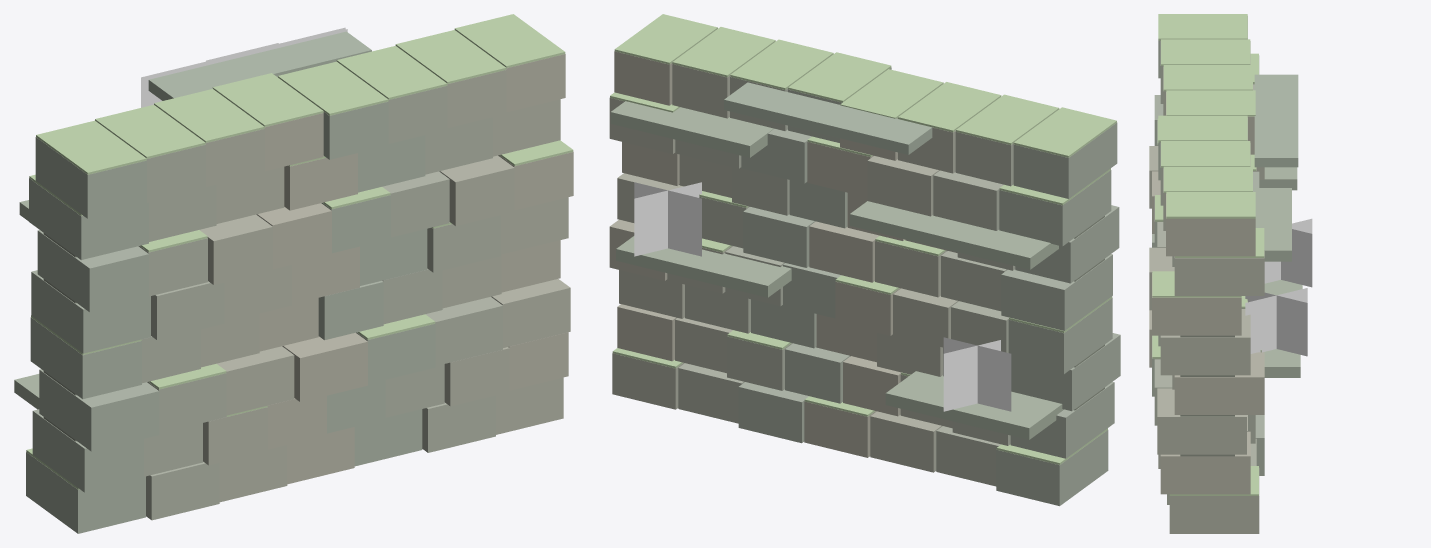
Rendered from waterfall-cliff.glb.
3 renders of one model, left to right at view 1: azimuth 30°, elevation 25°; view 2: azimuth 150°, elevation 25°; view 3: azimuth 270°, elevation 25°, orthographic. The views are drawn at different scales.
Parts seen in each view (by area): view 1: waterfall_stacked_block_cliff, waterfall_mossy_ledge_caps, waterfall_projecting_shadow_ledges, waterfall_scrolling_sheet_cards; view 2: waterfall_stacked_block_cliff, waterfall_mossy_ledge_caps, waterfall_projecting_shadow_ledges, waterfall_blossom_clump_right, waterfall_blossom_clump_left; view 3: waterfall_stacked_block_cliff, waterfall_mossy_ledge_caps, waterfall_projecting_shadow_ledges, waterfall_blossom_clump_right, waterfall_blossom_clump_left.
Boxes of the visible parts, left/top/right/bottom form: waterfall_stacked_block_cliff: left=26, top=54, right=573, bottom=533; waterfall_mossy_ledge_caps: left=26, top=14, right=573, bottom=489; waterfall_projecting_shadow_ledges: left=14, top=31, right=371, bottom=409; waterfall_scrolling_sheet_cards: left=143, top=29, right=347, bottom=107; waterfall_stacked_block_cliff: left=609, top=51, right=1120, bottom=506; waterfall_mossy_ledge_caps: left=610, top=14, right=1116, bottom=464; waterfall_projecting_shadow_ledges: left=610, top=82, right=1063, bottom=439; waterfall_blossom_clump_right: left=634, top=182, right=701, bottom=256; waterfall_blossom_clump_left: left=943, top=337, right=1011, bottom=411; waterfall_stacked_block_cliff: left=1149, top=16, right=1264, bottom=533; waterfall_mossy_ledge_caps: left=1152, top=14, right=1264, bottom=495; waterfall_projecting_shadow_ledges: left=1253, top=74, right=1302, bottom=377; waterfall_blossom_clump_right: left=1245, top=288, right=1307, bottom=356; waterfall_blossom_clump_left: left=1264, top=218, right=1312, bottom=287.
Bounding box in the file's own units: 21.94 × 16.05 × 12.21.
